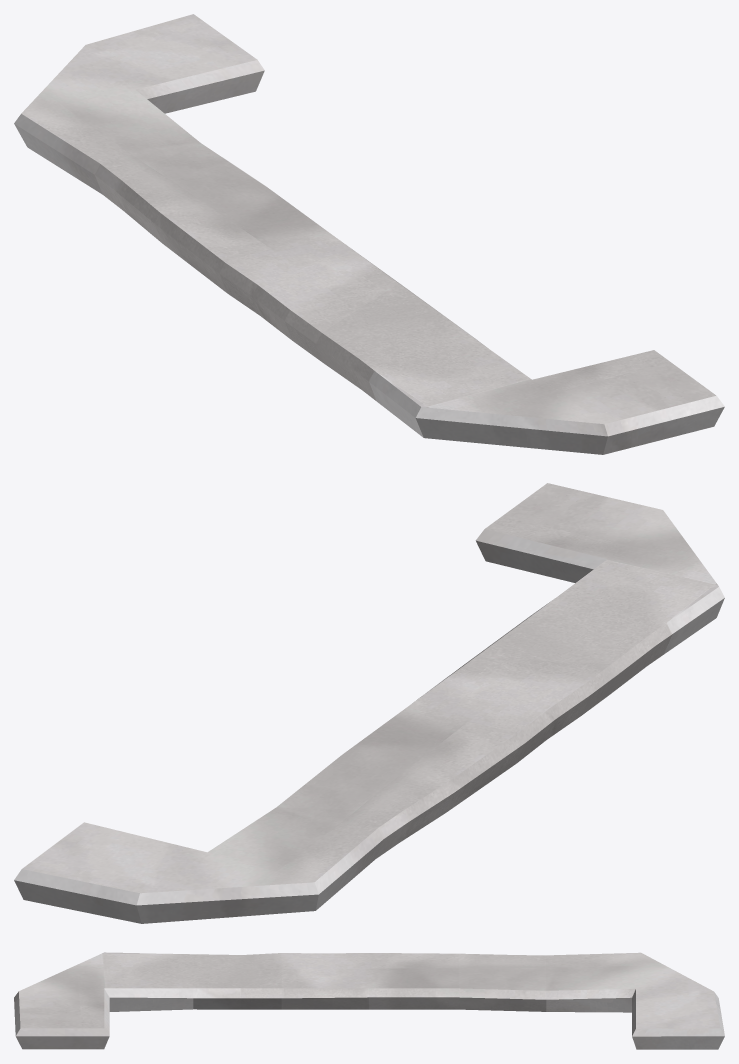
Rendered from RodapieBarra.FBX.
3 views of the same model, one above another, from view 1: azimuth 30°, elevation 25°; view 2: azimuth 150°, elevation 25°; view 3: azimuth 270°, elevation 25° (orthographic). The views are drawn at different scales.
Parts seen in each view (by area): view 1: Barra Rodapies; view 2: Barra Rodapies; view 3: Barra Rodapies.
Boxes of the visible parts, x1=… form: Barra Rodapies: x1=14, y1=14, x2=724, y2=454; Barra Rodapies: x1=14, y1=483, x2=724, y2=923; Barra Rodapies: x1=14, y1=952, x2=724, y2=1049.
Bounding box in the file's own units: 162 × 22.85 × 612.
